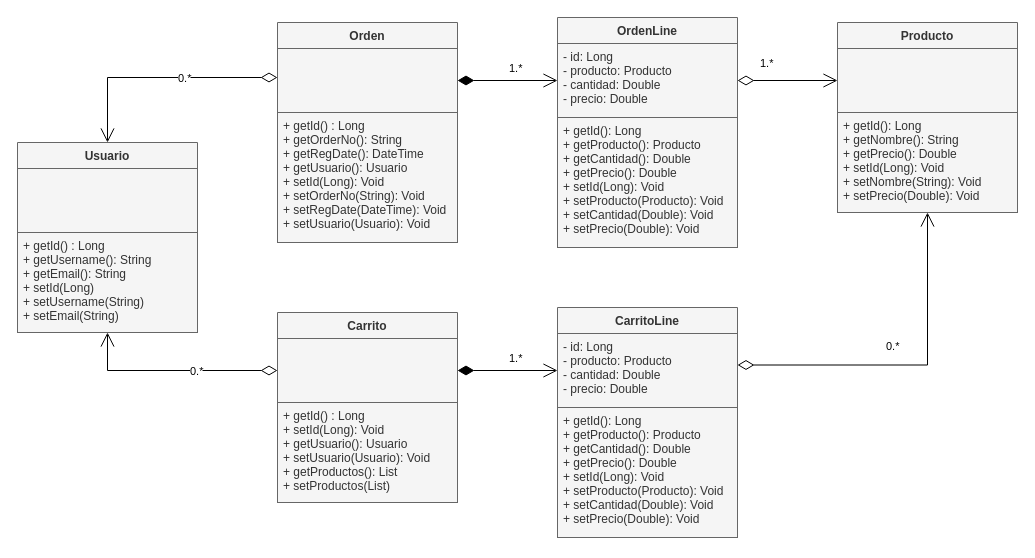
Some shapes in this 1035 by 558 pixel diagram are drawn without their labels. The centre of each missing label's shape, as x and y in pixels:
"- id: Long - nombre: String - precio: Double" belongs at [927,80].
"- id: Long - username: String - email: String" belongs at [107,200].
"- id: Long - usuario: Usuario - orderNo: String - regDate: DateTime" belongs at [367,80].
"- id: Long - usuario: Usuario - productos: List" belongs at [367,370].
